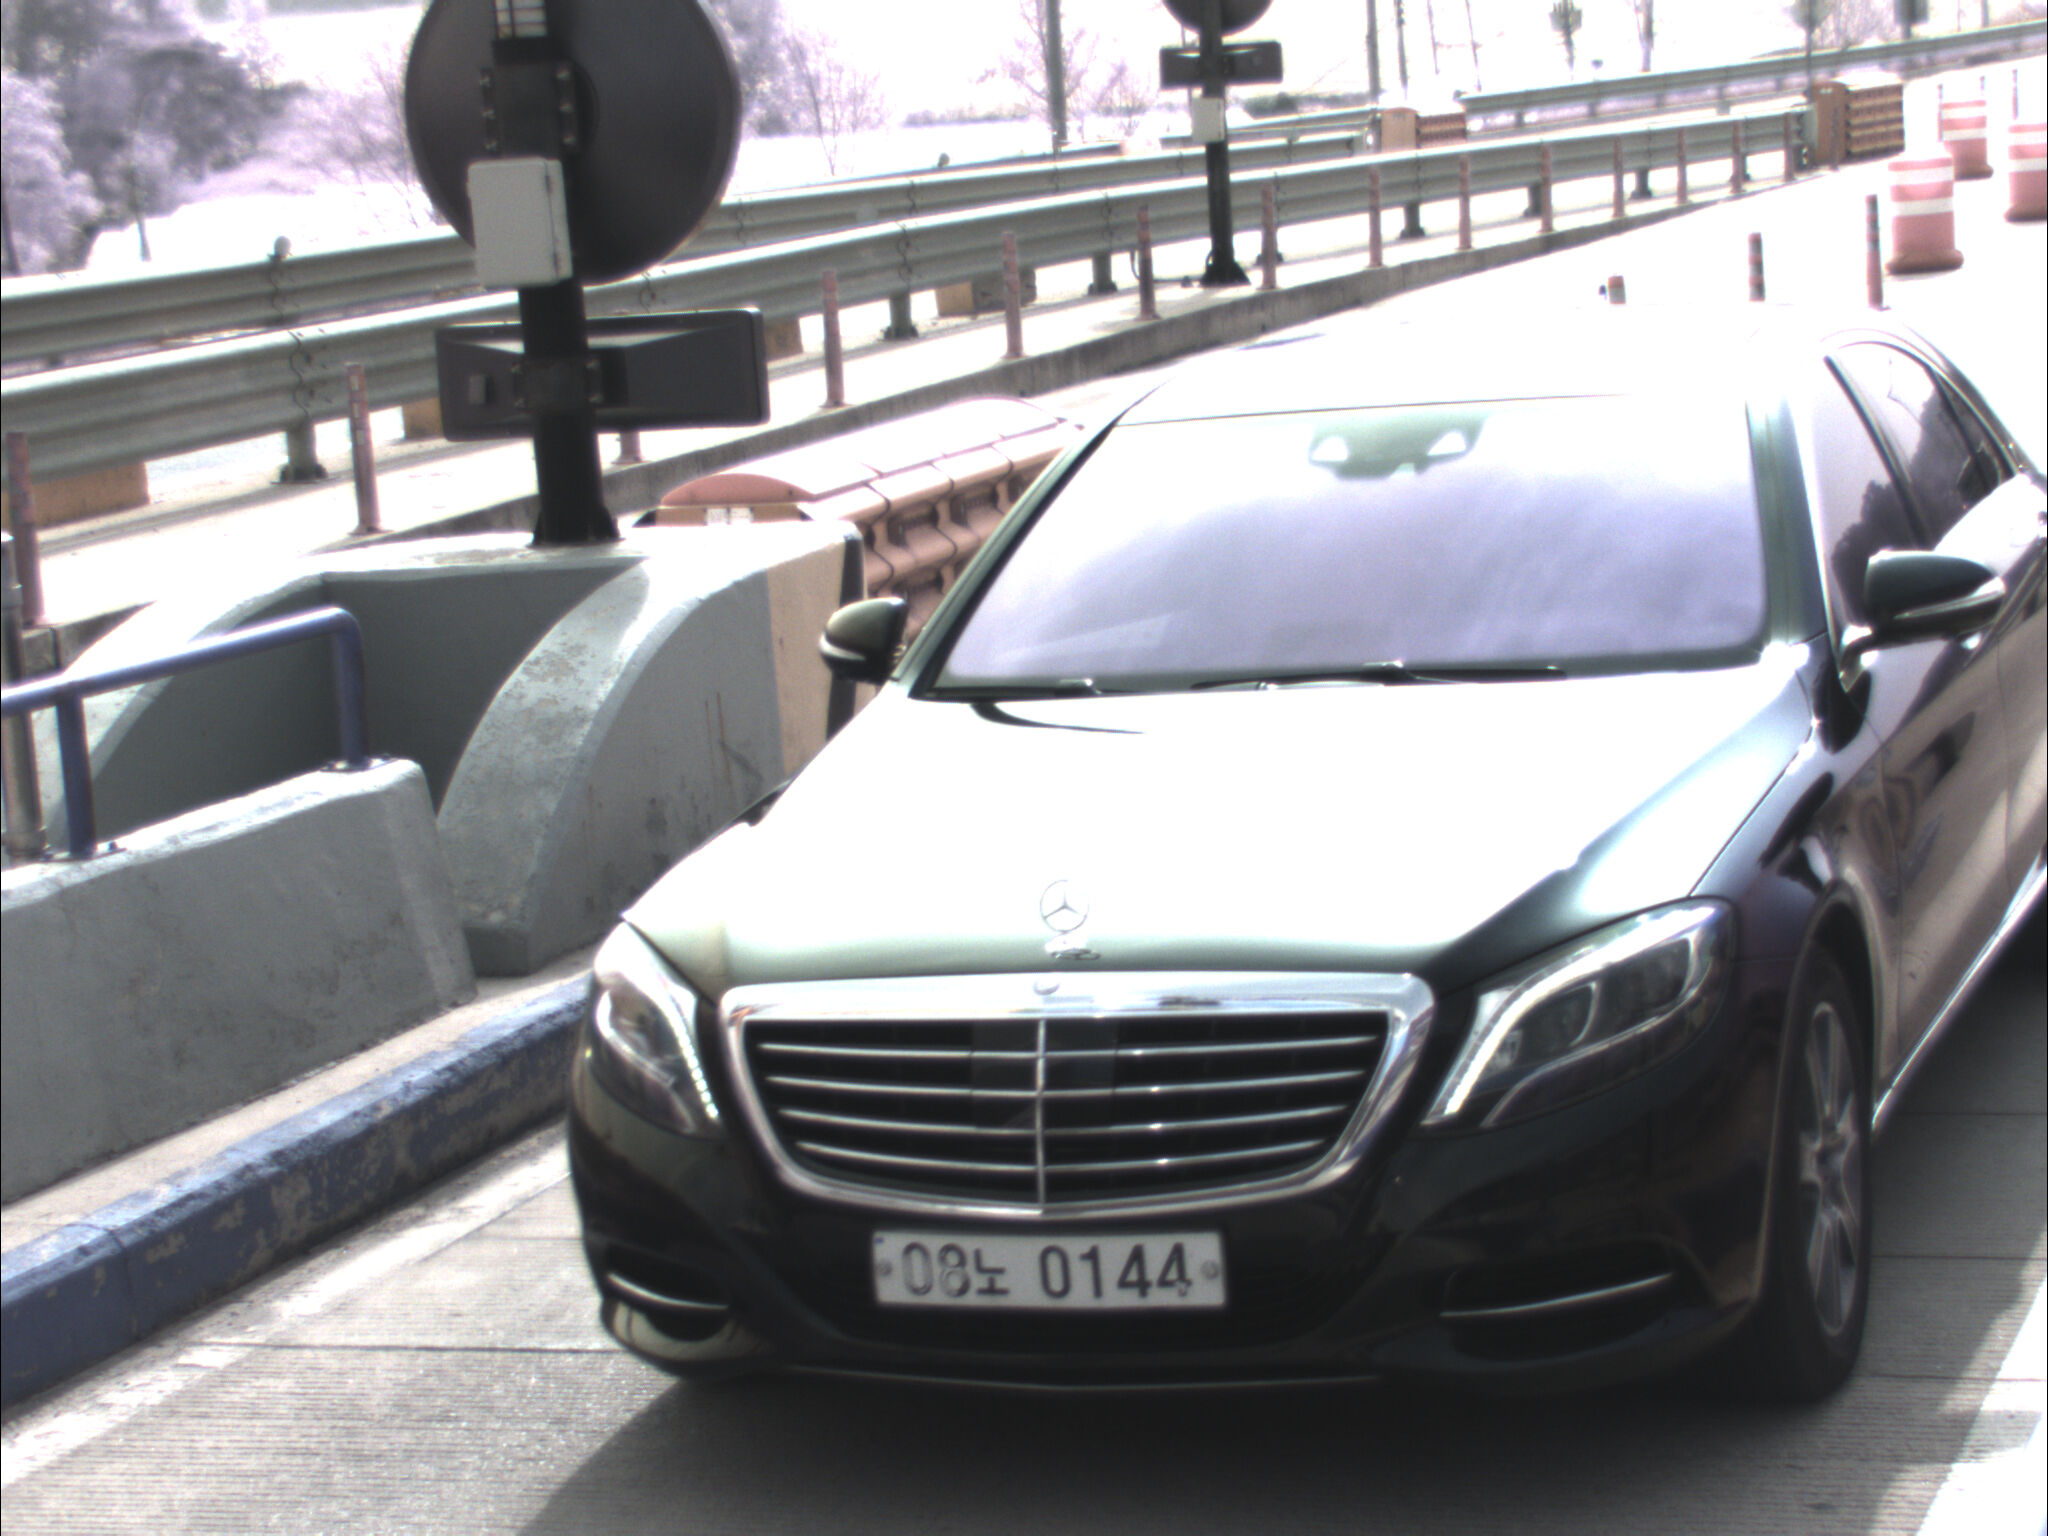car: (567, 309, 2048, 1417)
plate: (865, 1226, 1225, 1306)
